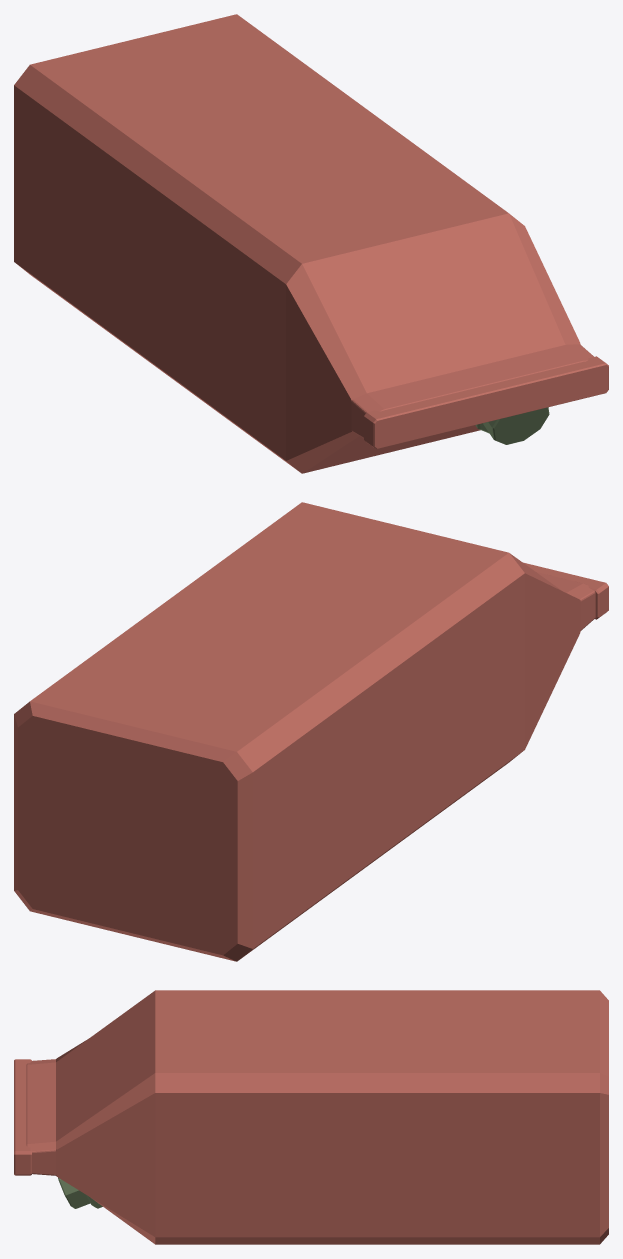
File: tomato_juice.glb
3 renders of one model, top to bottom at view 1: azimuth 30°, elevation 25°; view 2: azimuth 150°, elevation 25°; view 3: azimuth 270°, elevation 25°, orthographic. The views are drawn at different scales.
Visible parts, largest first — view 1: tomato_juice; view 2: tomato_juice; view 3: tomato_juice.
Part boxes in pixels (box(x1,y1,x2,y2)): tomato_juice: box(14, 14, 608, 473); tomato_juice: box(14, 502, 608, 961); tomato_juice: box(14, 990, 608, 1244).
Size of the model in its own units: 0.075 by 0.0672 by 0.198.
